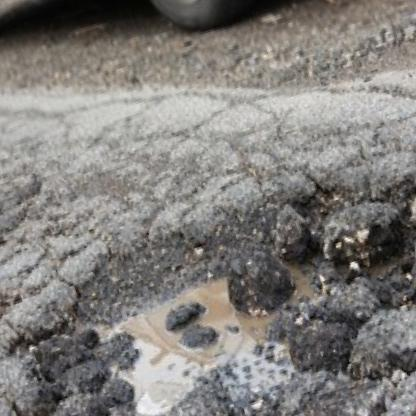pothole: (1, 133, 416, 416)
